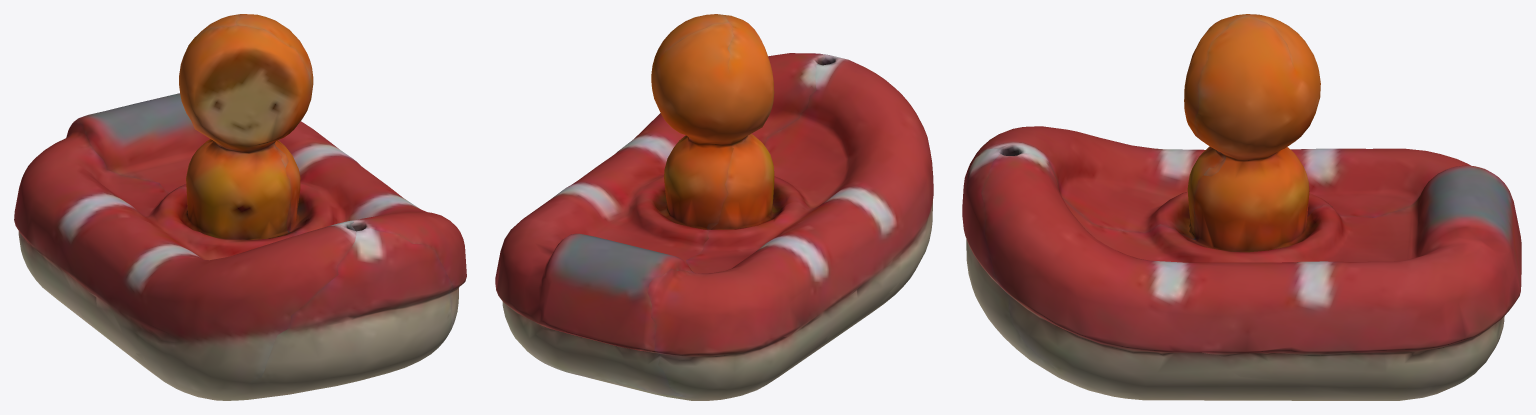
The model's file is COAST_GUARD_BOAT-high.glb.
The picture shows the model from 3 angles, left to right: view 1: azimuth 30°, elevation 25°; view 2: azimuth 150°, elevation 25°; view 3: azimuth 270°, elevation 25°; orthographic projection. The views are drawn at different scales.
Parts seen in each view (by area): view 1: COAST_GUARD_BOAT; view 2: COAST_GUARD_BOAT; view 3: COAST_GUARD_BOAT.
Part boxes in pixels (x1,y1,x2,y2): COAST_GUARD_BOAT: [14, 14, 466, 400]; COAST_GUARD_BOAT: [495, 14, 933, 400]; COAST_GUARD_BOAT: [962, 14, 1521, 400].
Size of the model in its own units: 0.0758 by 0.0759 by 0.1161.
1 material, 1 textured.
